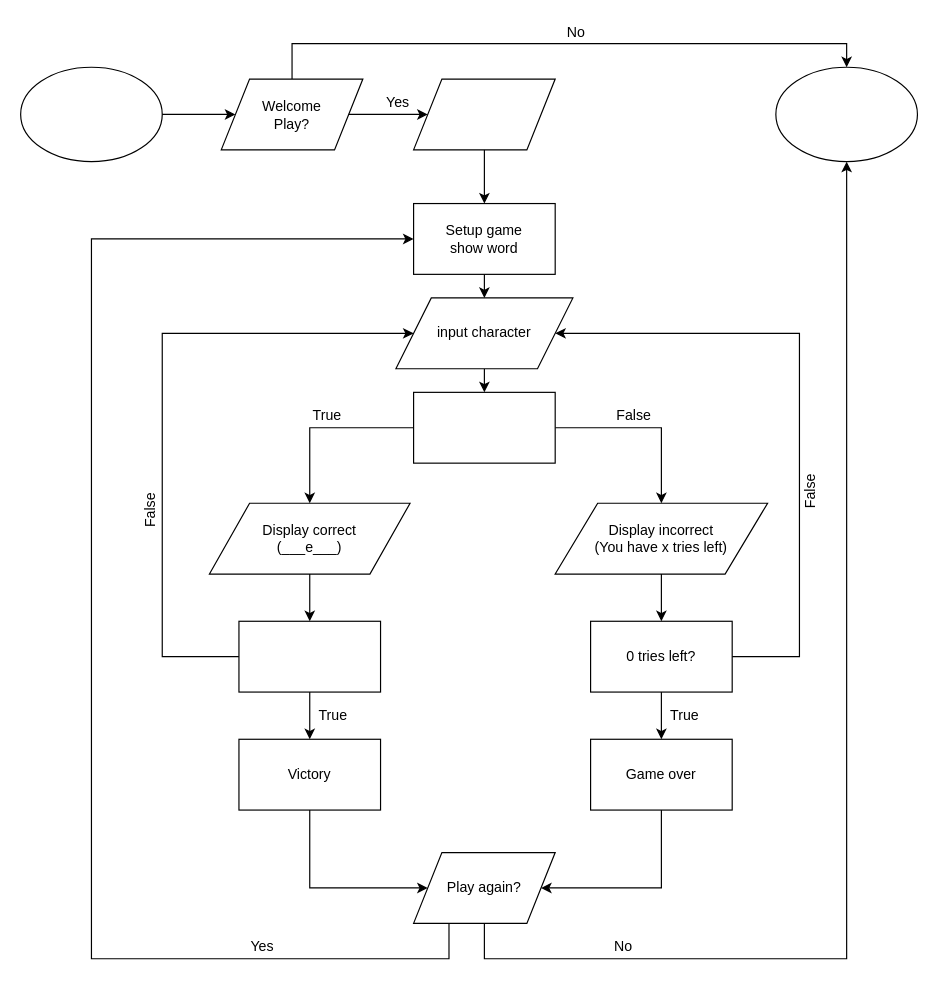
This 938x989 diagram has some shape labels left out. The shapes that lost their labels are listed below. From the top down, each one's centre as x and y in pixels, then its label:
At (x=90, y=114): "Start".
At (x=483, y=114): "input username".
At (x=846, y=114): "End".
At (x=483, y=427): "Character in word?".
At (x=309, y=656): "All letters matched?".
